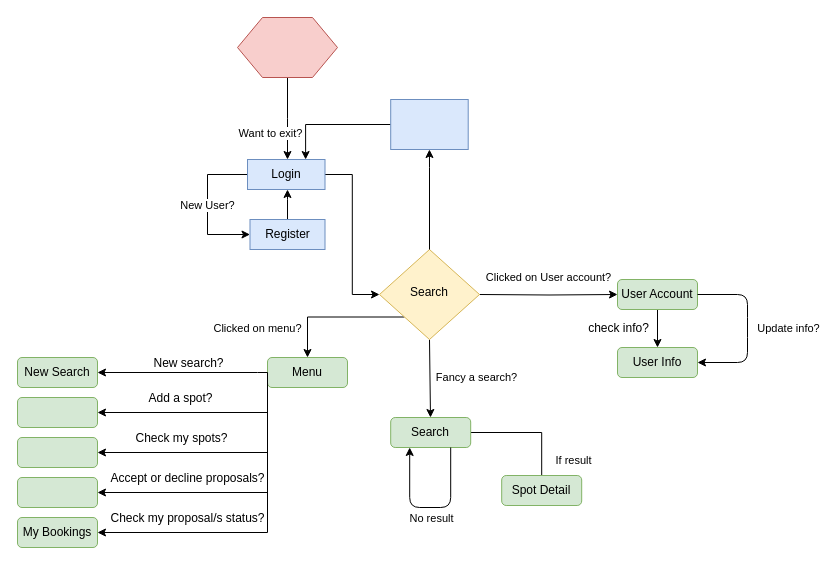
This 836x565 diagram has some shape labels left out. Each missing label, with the centre of its shape:
"Add a Spot" belongs at (57,412).
"Logout" belongs at (429,124).
"Manage Your Requests" belongs at (57,492).
"My Spots" belongs at (57,452).
"Share My Spot App" belongs at (287,47).
